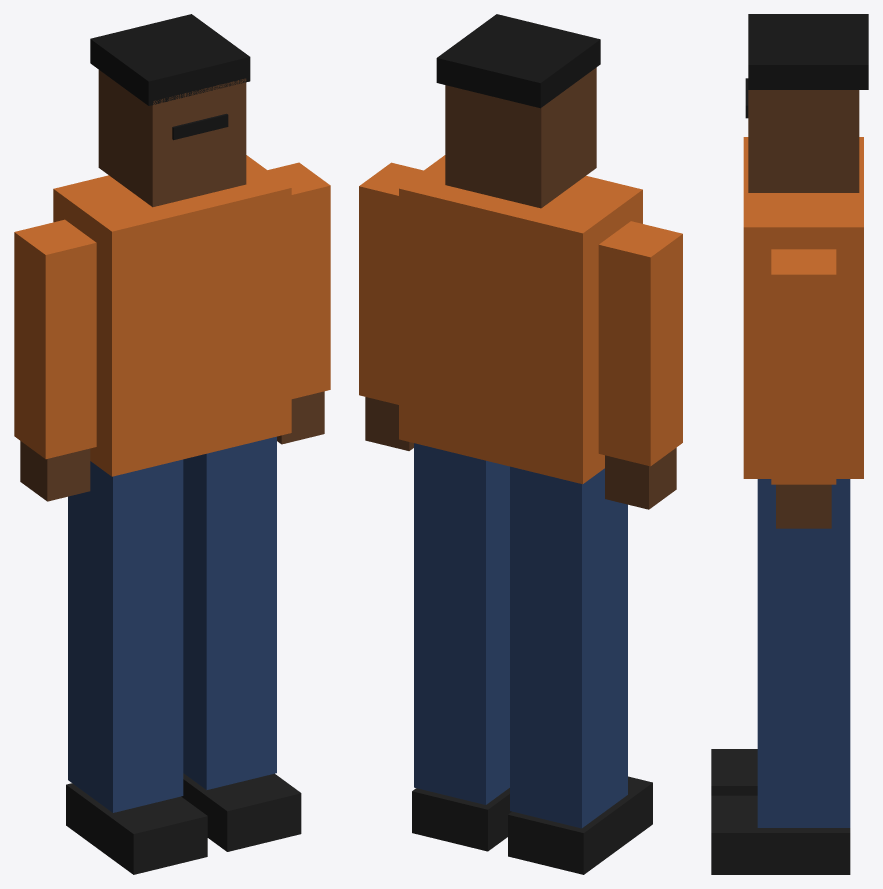
The model's file is ped_4.glb.
The picture shows the model from 3 angles, left to right: view 1: azimuth 30°, elevation 25°; view 2: azimuth 150°, elevation 25°; view 3: azimuth 270°, elevation 25°; orthographic projection. The views are drawn at different scales.
Visible parts, largest first — view 1: torso, leg_r, leg_l, head, arm_r, arm_l; view 2: torso, leg_r, leg_l, head, arm_r, arm_l; view 3: leg_l, head, torso, arm_l, leg_r.
Boxes of the visible parts, x1,y1,x2,y2 form: torso: (53,155,291,476); leg_r: (66,459,207,874); leg_l: (181,436,301,851); head: (90,14,250,207); arm_r: (14,219,96,501); arm_l: (267,162,330,444); torso: (399,155,642,484); leg_r: (508,466,652,874); leg_l: (412,443,511,851); head: (436,14,600,208); arm_r: (598,221,682,509); arm_l: (359,162,423,450); leg_l: (711,479,850,874); head: (745,14,868,192); torso: (743,137,863,478); arm_l: (771,249,836,528); leg_r: (711,749,757,795).
Size of the model in its own units: 0.73 by 1.89 by 0.34.
